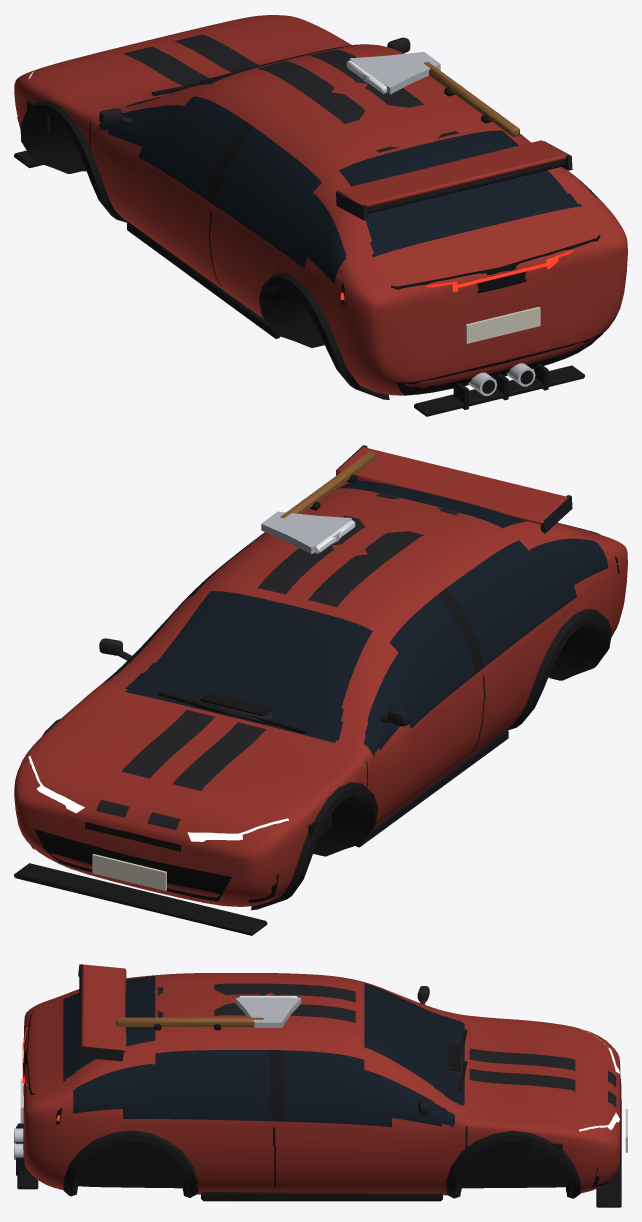
File: car_hatchet.glb
The picture shows the model from 3 angles, top to bottom: view 1: azimuth 30°, elevation 25°; view 2: azimuth 150°, elevation 25°; view 3: azimuth 270°, elevation 25°; orthographic projection. The views are drawn at different scales.
Parts seen in each view (by area): view 1: body, parts, lips, strip1.001, strip9, strip6, strip0.001, strip1, strip0; view 2: body, parts, lips, strip4, strip1.001, strip0.001, strip0, strip1, strip3; view 3: body, parts, lips, strip1.001, strip0, strip0.001, strip1.
Boxes of the visible parts, x1=… form: body: x1=14, y1=15, x2=627, y2=395; parts: x1=14, y1=37, x2=584, y2=416; lips: x1=20, y1=101, x2=389, y2=399; strip1.001: x1=258, y1=61, x2=399, y2=152; strip9: x1=396, y1=332, x2=603, y2=395; strip6: x1=341, y1=235, x2=600, y2=305; strip0.001: x1=123, y1=47, x2=209, y2=85; strip1: x1=308, y1=49, x2=458, y2=138; strip0: x1=173, y1=34, x2=259, y2=72; body: x1=14, y1=480, x2=627, y2=906; parts: x1=14, y1=445, x2=572, y2=935; lips: x1=42, y1=609, x2=611, y2=910; strip4: x1=34, y1=829, x2=231, y2=901; strip1.001: x1=308, y1=508, x2=458, y2=607; strip0.001: x1=147, y1=722, x2=266, y2=830; strip0: x1=96, y1=710, x2=214, y2=817; strip1: x1=258, y1=493, x2=399, y2=594; strip3: x1=85, y1=822, x2=180, y2=851; body: x1=23, y1=973, x2=620, y2=1195; parts: x1=14, y1=964, x2=627, y2=1207; lips: x1=63, y1=1130, x2=580, y2=1198; strip1.001: x1=157, y1=983, x2=355, y2=1002; strip0: x1=469, y1=1068, x2=616, y2=1107; strip0.001: x1=469, y1=1048, x2=616, y2=1087; strip1: x1=157, y1=1003, x2=355, y2=1022.
Size of the model in its own units: 1.93 by 1.29 by 4.11.
